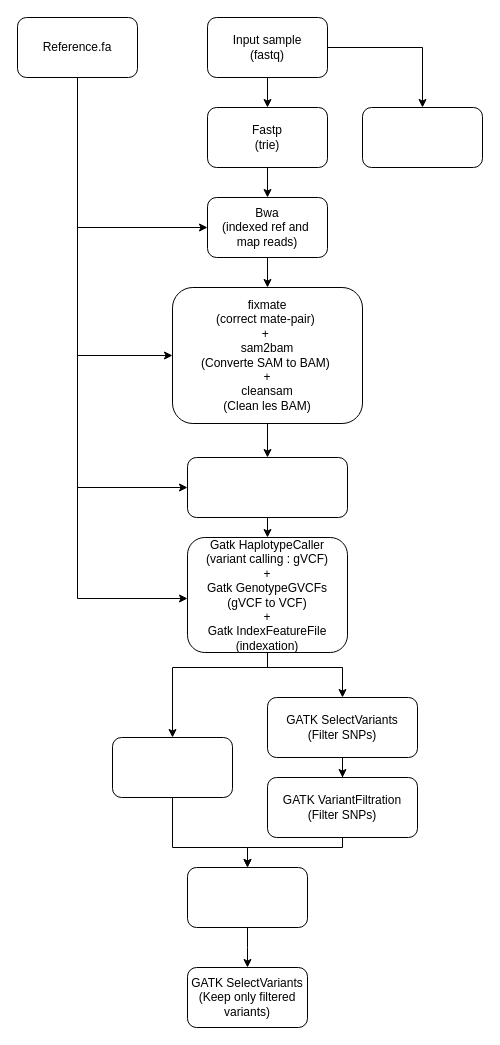
This 500x1045 diagram has some shape labels left out. Here are the shapes that lost their labels. From the top down, the centre of each, then its label:
At [422,137]: "FastQC (contrôle qualité)".
At [267,487]: "fgbio (suppression des régions chevauchantes)".
At [172,767]: "GATK SelectVariants (Filter InDels)".
At [247,897]: "GATK MergeVcfs (Merge SNPs and InDels)".
